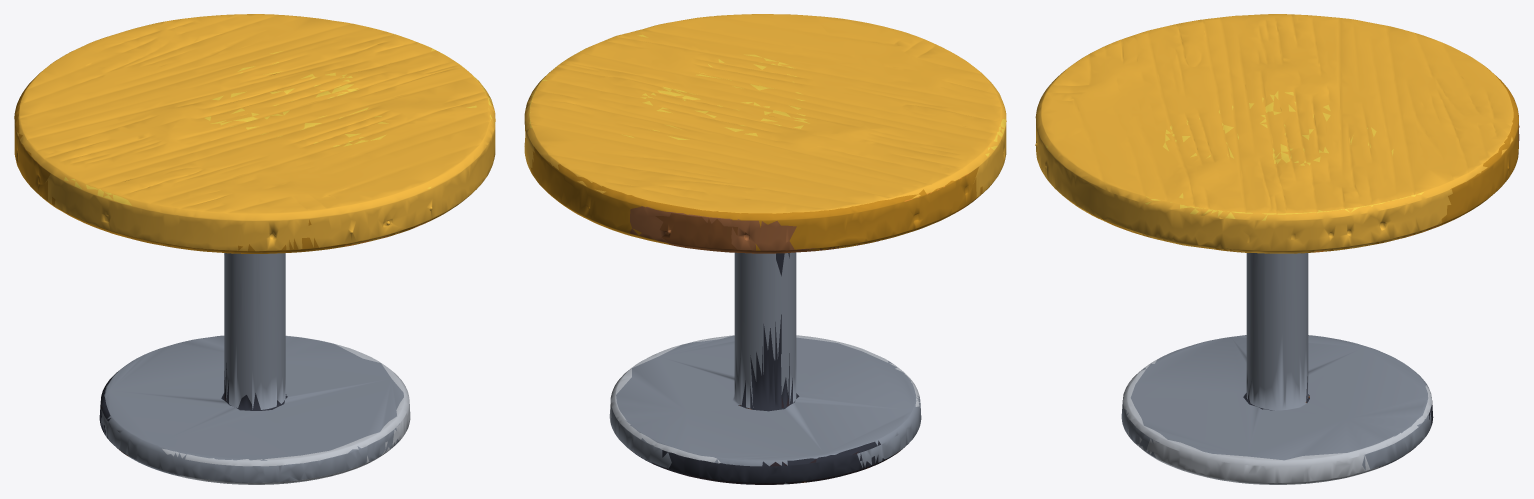
File: SM_table_round_cafe.fbx
3 views of the same model, side by side, from view 1: azimuth 30°, elevation 25°; view 2: azimuth 150°, elevation 25°; view 3: azimuth 270°, elevation 25° (orthographic).
Visible parts, largest first — view 1: SM_table_round_cafe; view 2: SM_table_round_cafe; view 3: SM_table_round_cafe.
Boxes of the visible parts, bbox=[...] form: SM_table_round_cafe: bbox=[14, 14, 495, 484]; SM_table_round_cafe: bbox=[524, 14, 1006, 484]; SM_table_round_cafe: bbox=[1035, 14, 1519, 484].
Size of the model in its own units: 91.89 by 65 by 92.19.
1 material, 1 textured.
